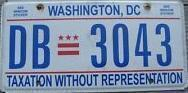placa de veiculo: (3, 1, 182, 90)
